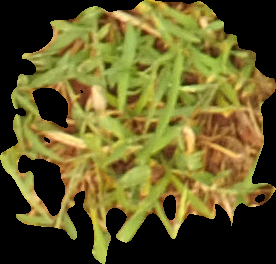grass: (1, 1, 274, 262)
